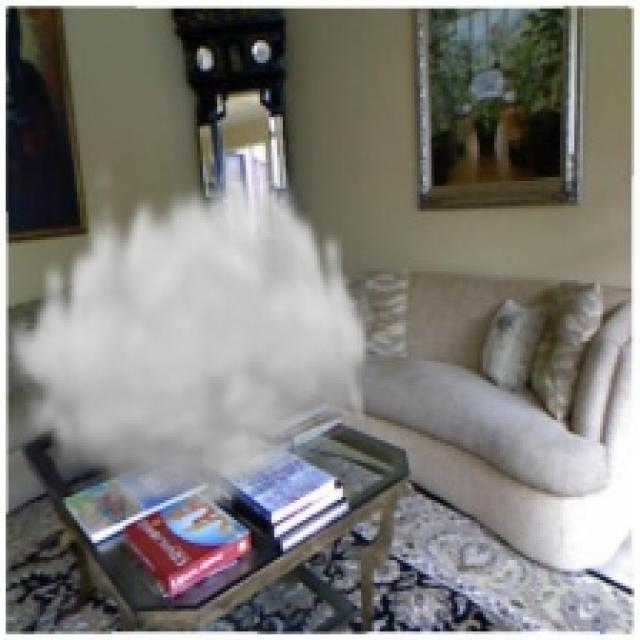smoke: (3, 146, 374, 517)
